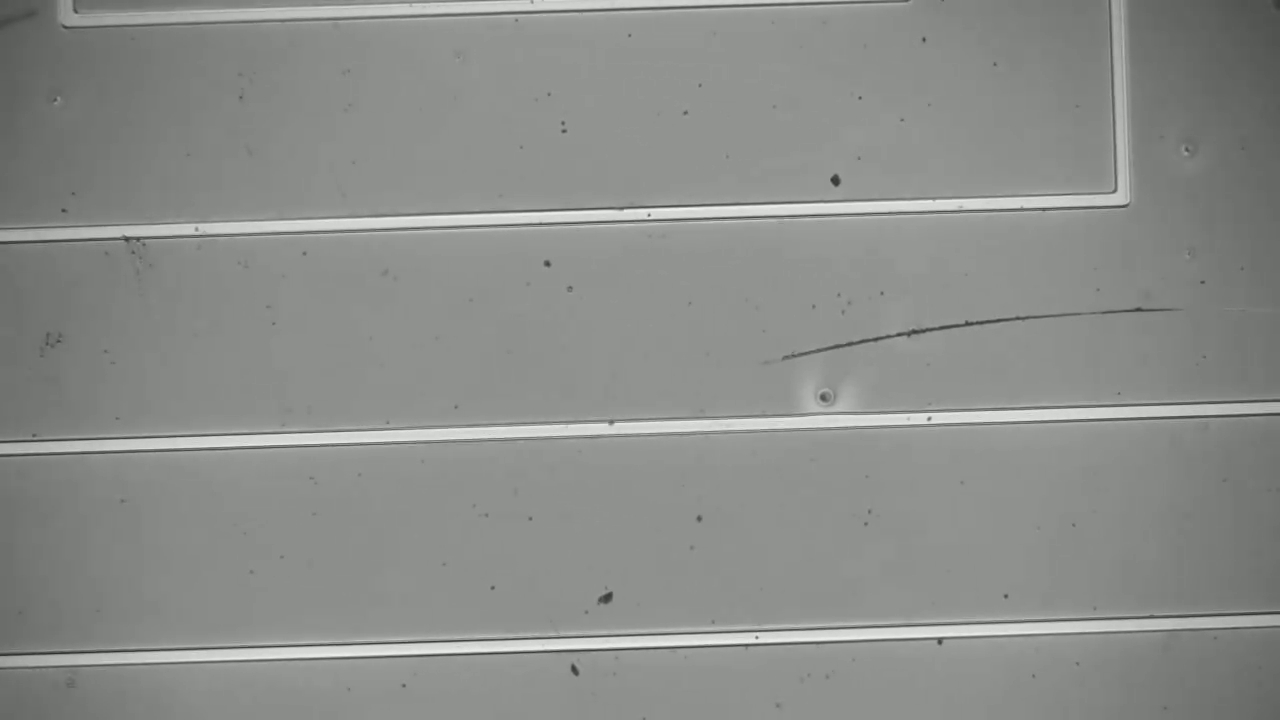scratch: (746, 299, 1188, 364)
